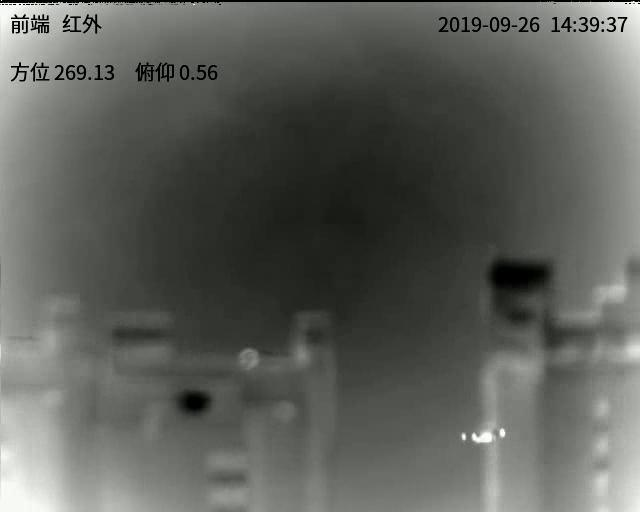DRONE: (460, 427, 507, 445)
